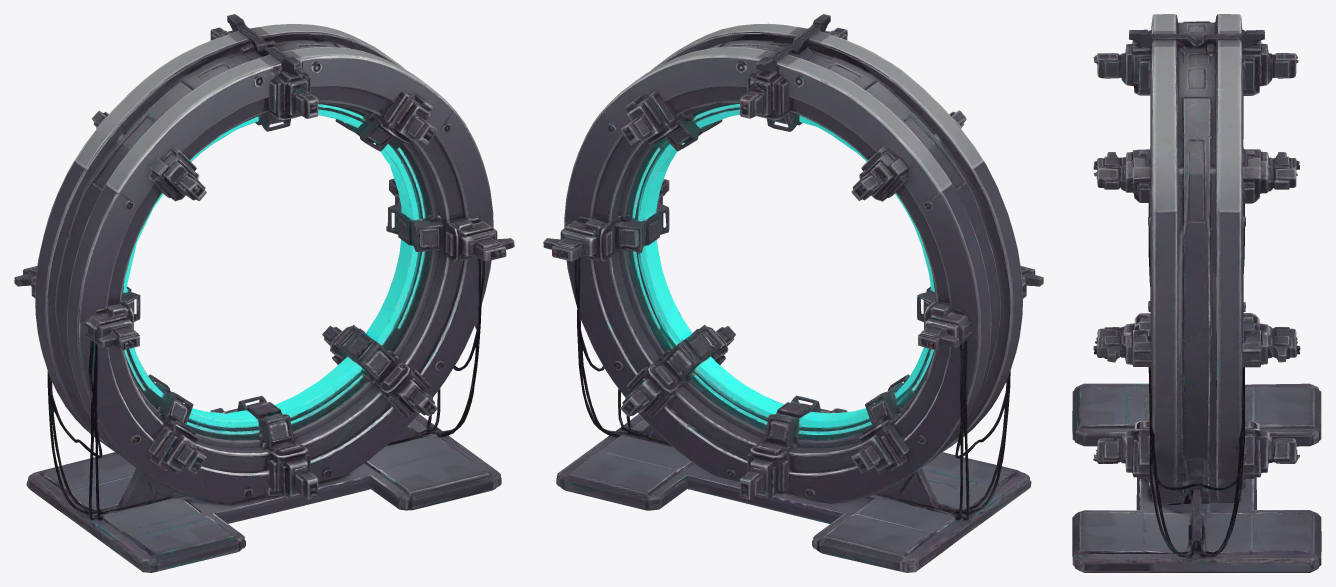
Rendered from transit-hyperloop-gate.glb.
3 views of the same model, side by side, from view 1: azimuth 30°, elevation 25°; view 2: azimuth 150°, elevation 25°; view 3: azimuth 270°, elevation 25° (orthographic).
Parts seen in each view (by area): view 1: Mesh_0; view 2: Mesh_0; view 3: Mesh_0.
Boxes of the visible parts, <box> form: Mesh_0: <box>14,14,514,572</box>; Mesh_0: <box>543,14,1043,572</box>; Mesh_0: <box>1072,14,1321,572</box>.
Size of the model in its own units: 1.85 by 1.9 by 0.9448.
Materials: 1 (1 with a texture image).
